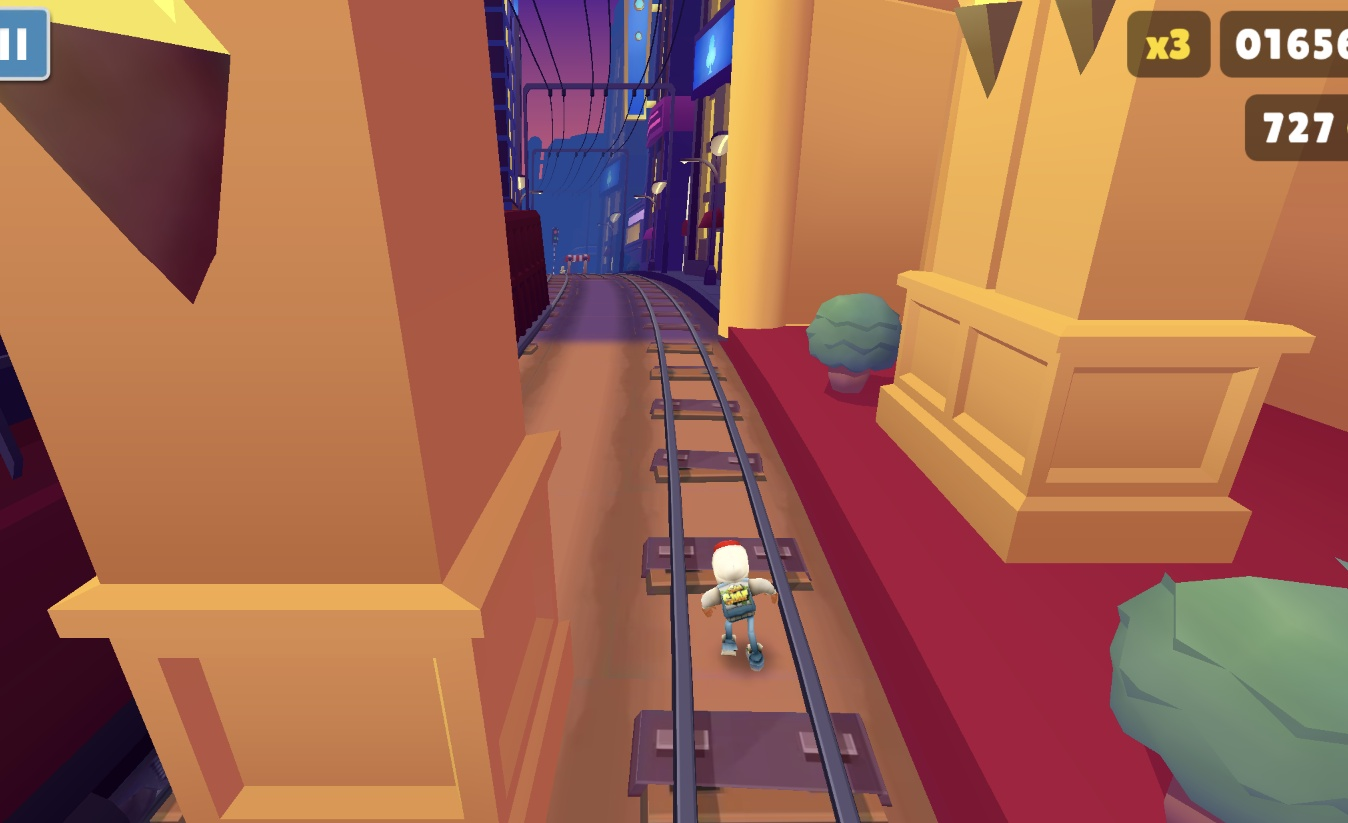ground_barrier: (573, 250, 596, 273)
pillar: (0, 0, 580, 823)
